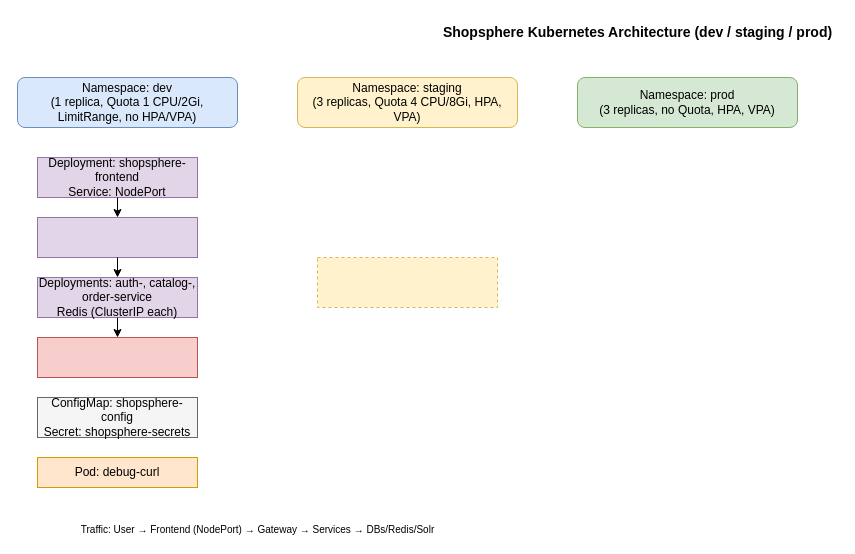
The diagram is 855 pixels wide and 554 high, and some of its shapes have lost their labels. The box of each missing label's shape, as (x1, y1, x2, y2) in pixels:
Deployment: gateway Service: ClusterIP: (36, 216, 198, 258)
HPA: gateway, auth-, catalog-, order-service VPA: same (recommendation mode): (316, 256, 498, 308)
StatefulSets: auth-db, catalog-db, order-db Solr (PVC each): (36, 336, 198, 378)
